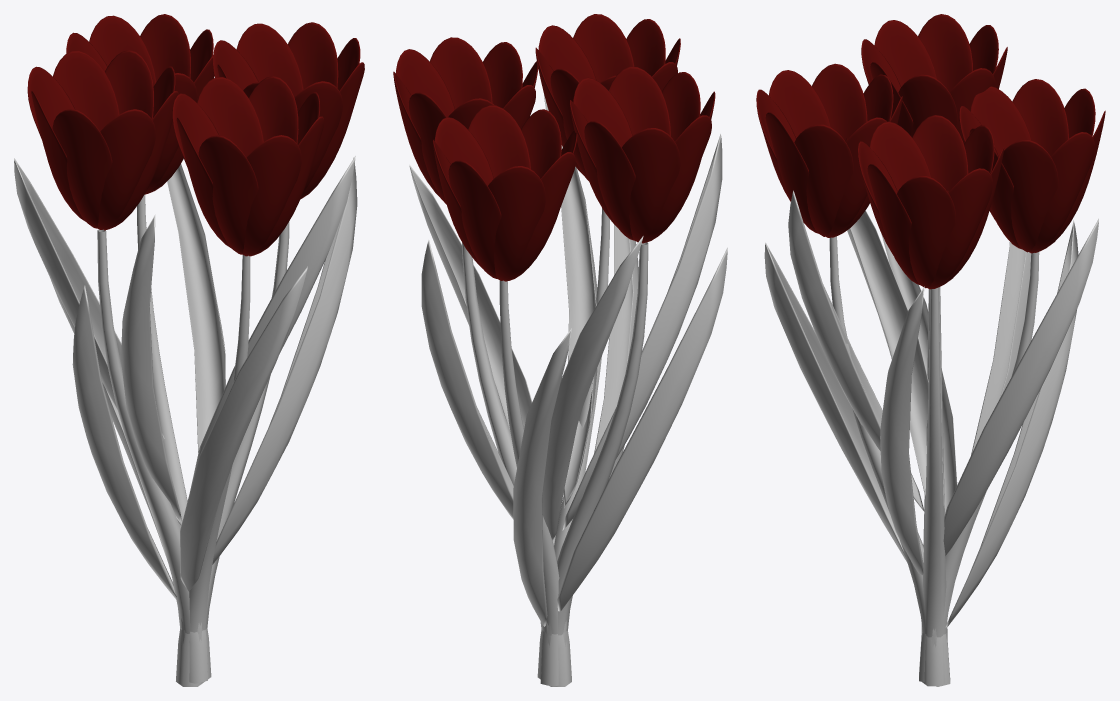
The model's file is Flowers.fbx.
The picture shows the model from 3 angles, left to right: view 1: azimuth 30°, elevation 25°; view 2: azimuth 150°, elevation 25°; view 3: azimuth 270°, elevation 25°; orthographic projection. The views are drawn at different scales.
Parts seen in each view (by area): view 1: Plane.Petal, Plane.Leaf, BezierStem; view 2: Plane.Petal, Plane.Leaf, BezierStem; view 3: Plane.Petal, Plane.Leaf, BezierStem.
Boxes of the visible parts, x1,y1,x2,y2 form: Plane.Petal: (27,14,364,256); Plane.Leaf: (14,156,357,599); BezierStem: (97,194,289,686); Plane.Petal: (393,14,715,281); Plane.Leaf: (409,94,727,626); BezierStem: (462,208,648,686); Plane.Petal: (756,14,1105,289); Plane.Leaf: (764,190,1098,627); BezierStem: (829,236,1039,686).
Size of the model in its own units: 196 by 196 by 370.
